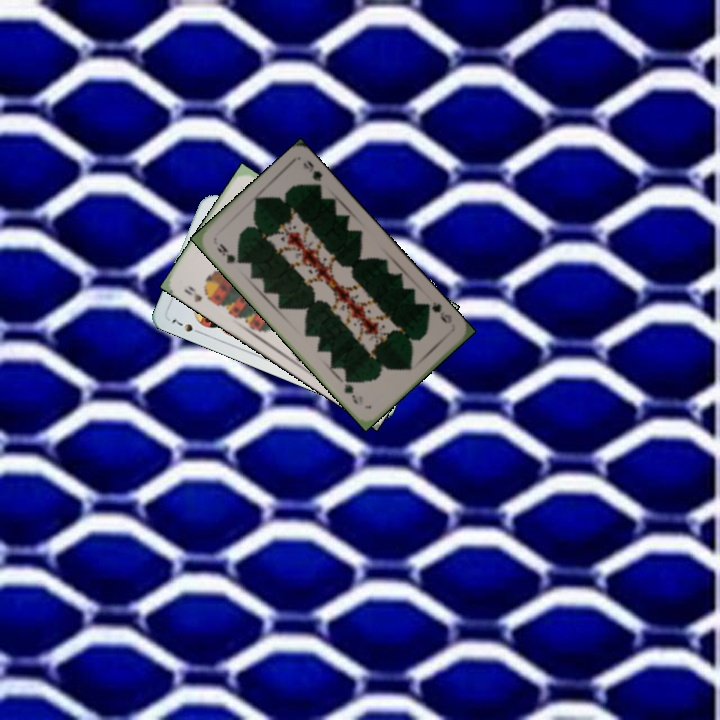G9: (421, 297, 455, 326), (213, 239, 243, 266)
S7: (167, 315, 205, 337)
S9: (180, 282, 216, 305)
